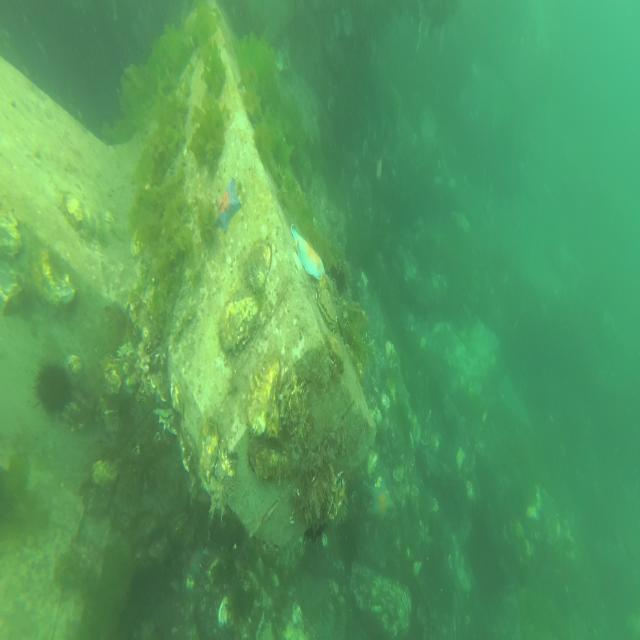echinus: (33, 356, 76, 417), (328, 262, 349, 297), (301, 523, 328, 549)
starfish: (289, 222, 327, 283), (215, 177, 241, 235), (366, 478, 396, 526), (186, 544, 206, 581), (413, 420, 422, 455)
